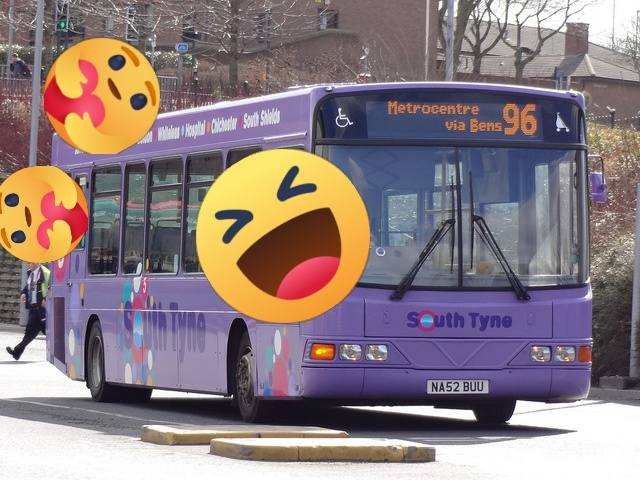care: (44, 38, 160, 154), (0, 166, 88, 263)
haha: (196, 149, 370, 323)
